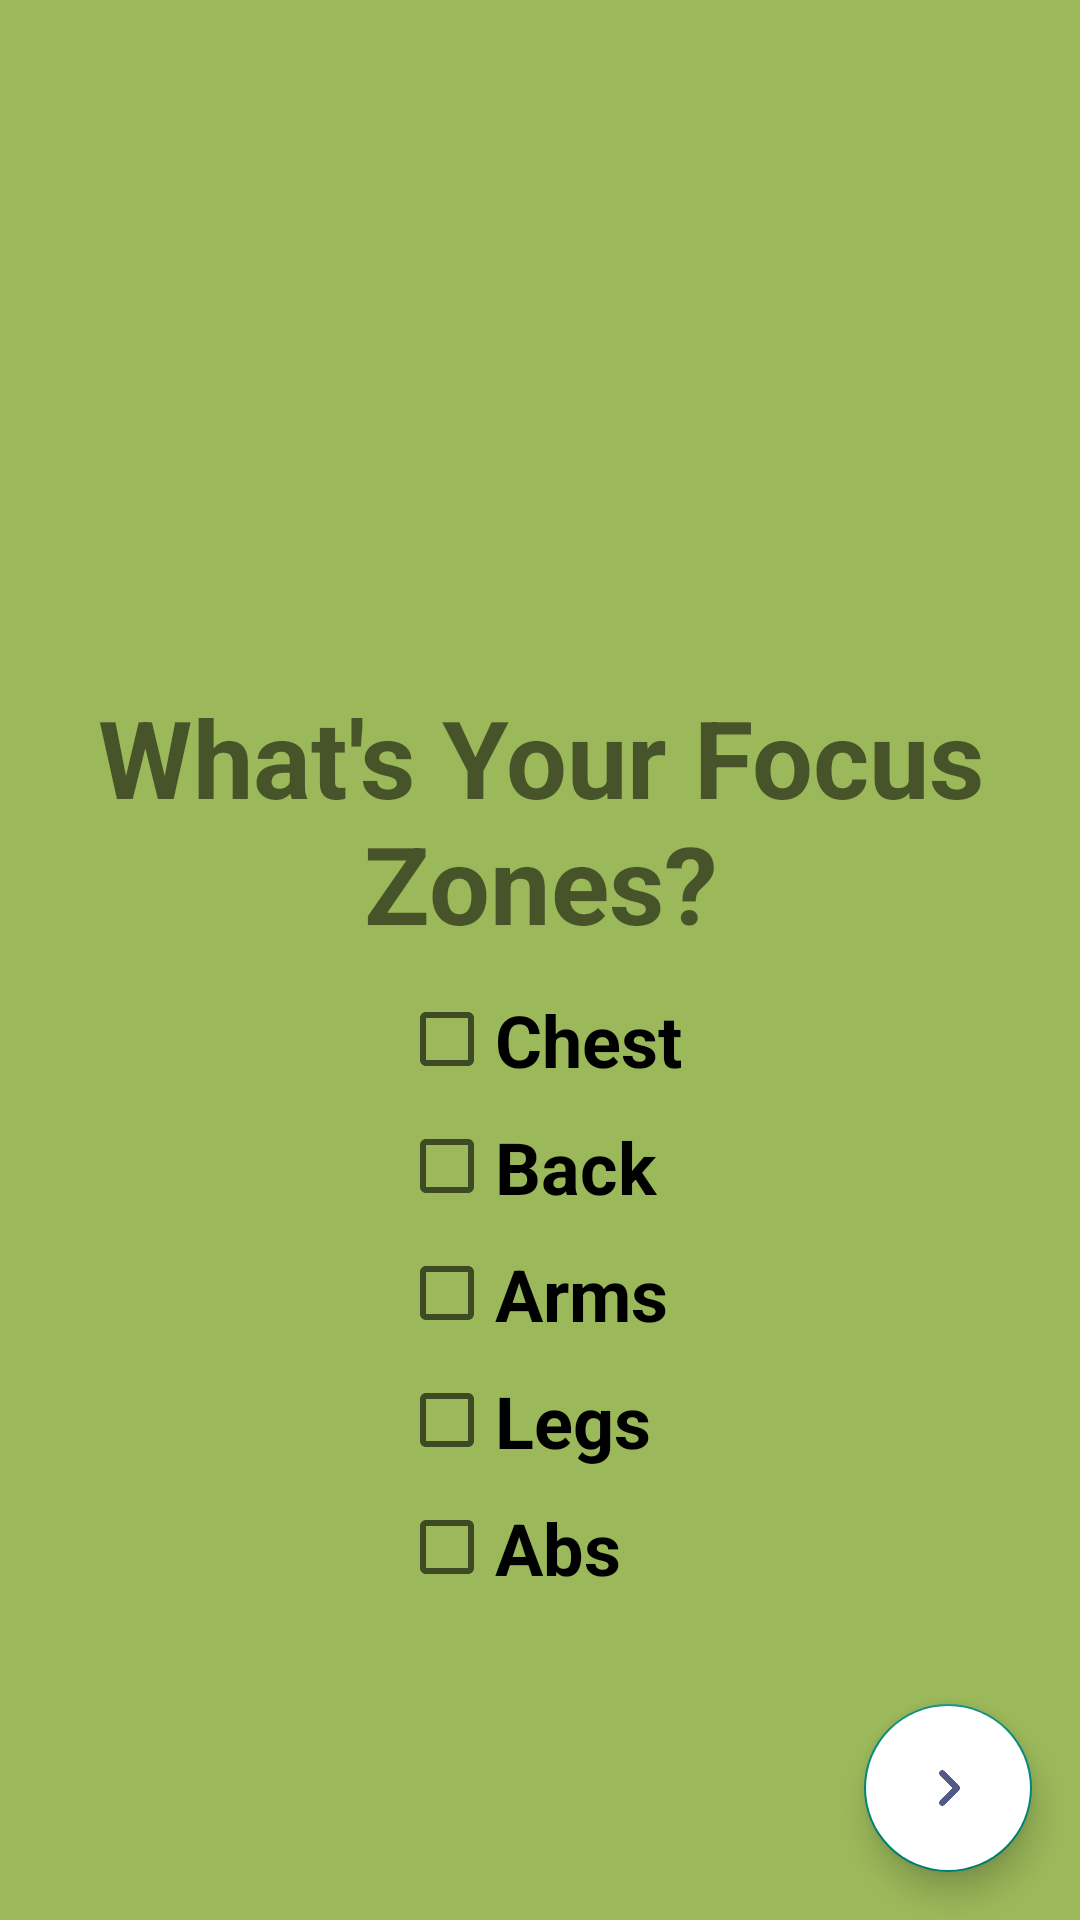

Point at icon controls on the screen. Image size 1080 x 1920, points as [x,y].
next: [948,1788]
